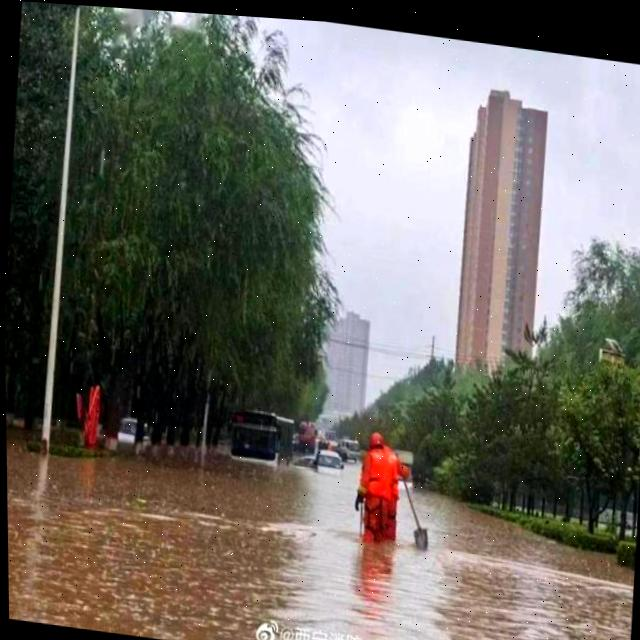rescuer: (349, 424, 402, 559), (372, 429, 419, 545)
